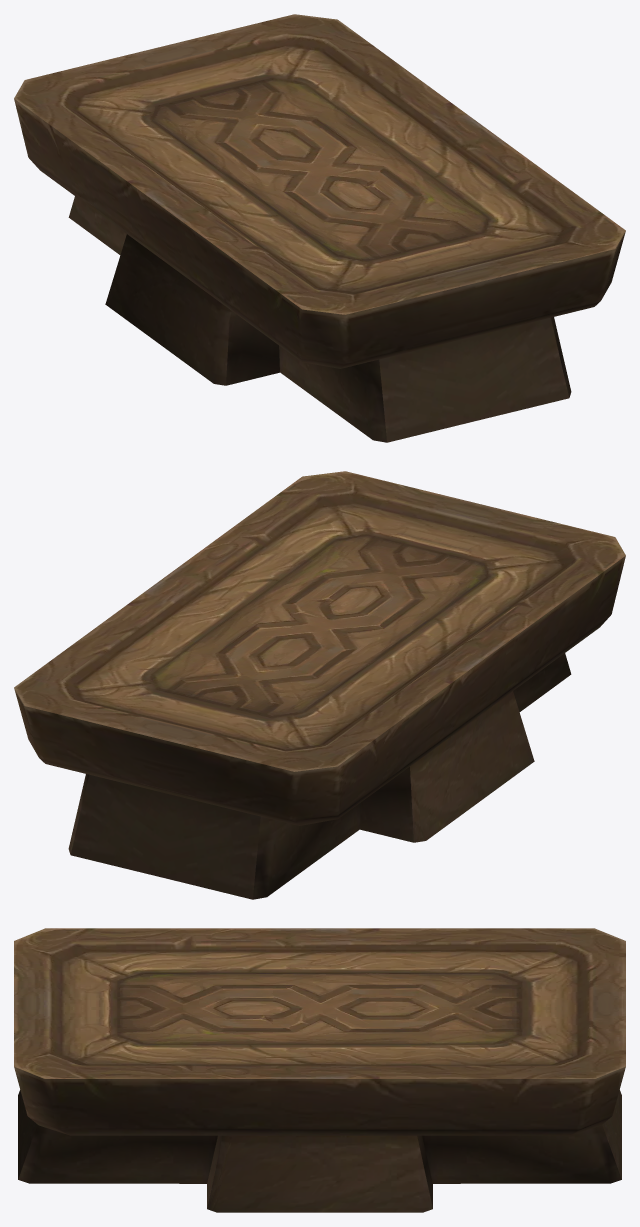
3 views of the same model, one above another, from view 1: azimuth 30°, elevation 25°; view 2: azimuth 150°, elevation 25°; view 3: azimuth 270°, elevation 25° (orthographic). The views are drawn at different scales.
Size of the model in its own units: 2.67 by 1.11 by 4.59.
1 material, 1 textured.
